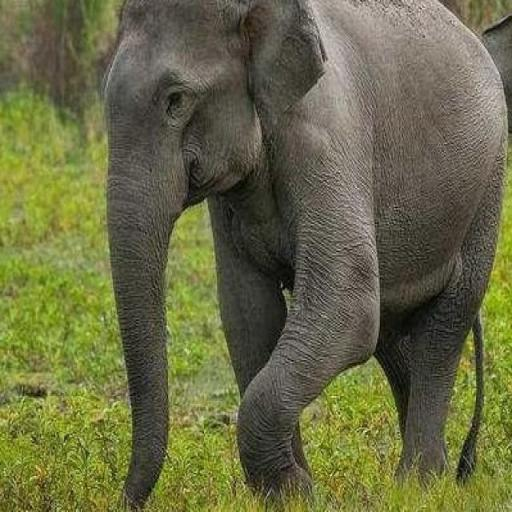Rhino: (100, 0, 509, 510)
